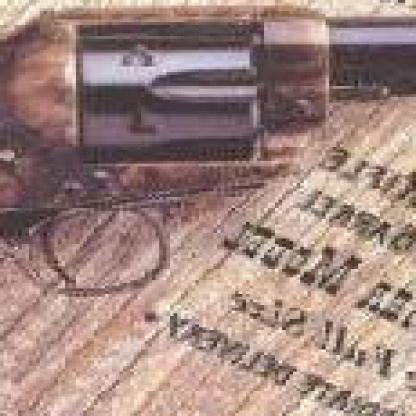gun: (0, 0, 413, 414)
